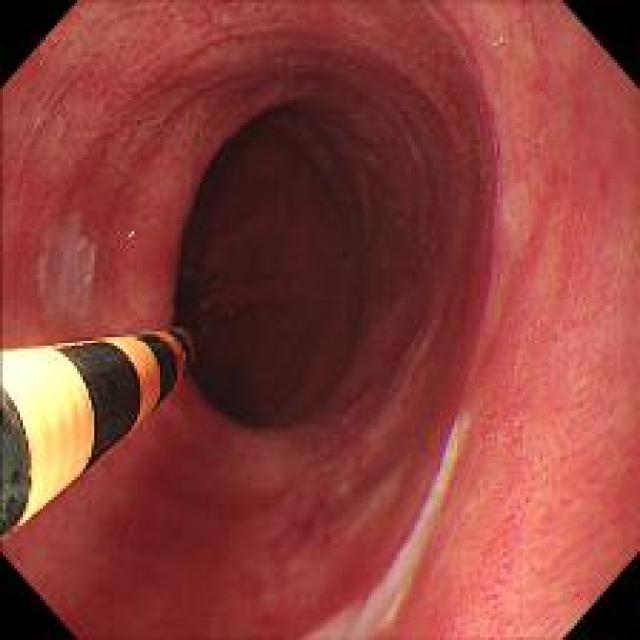color misalignment: (458, 38, 499, 394), (381, 481, 450, 574), (426, 409, 475, 485), (355, 569, 414, 628), (421, 2, 470, 45)
contrast: (171, 94, 456, 438)
instrument: (0, 328, 208, 539)
